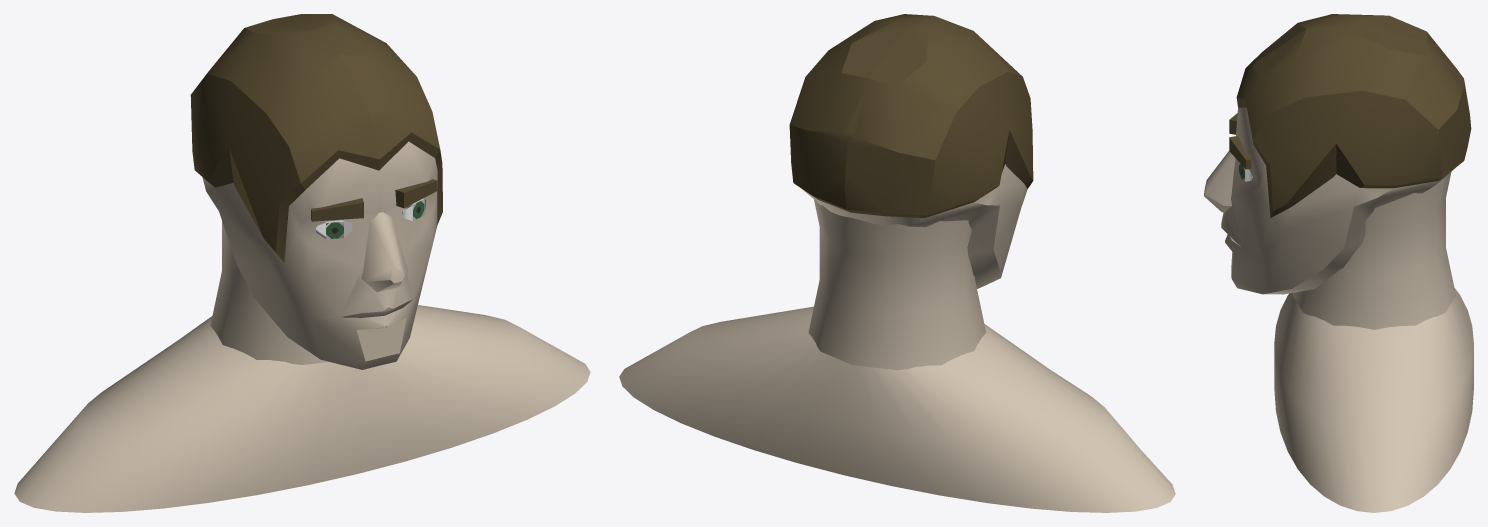
Rendered from man_head1.fbx.
3 renders of one model, left to right at view 1: azimuth 30°, elevation 25°; view 2: azimuth 150°, elevation 25°; view 3: azimuth 270°, elevation 25°, orthographic. The views are drawn at different scales.
Visible parts, largest first — view 1: Cylinder, Half1_1, Half1, Cylinder_1, Cube, Cube_2; view 2: Cylinder, Half1_1, Cylinder_1, Half1; view 3: Half1_1, Cylinder, Half1, Cylinder_1, Cube, Cube_2.
Boxes of the visible parts, left/top/right/bottom form: Cylinder: left=14, top=305, right=590, bottom=512; Half1_1: left=190, top=14, right=442, bottom=262; Half1: left=202, top=141, right=437, bottom=369; Cylinder_1: left=210, top=221, right=328, bottom=364; Cube: left=361, top=212, right=407, bottom=292; Cube_2: left=311, top=179, right=437, bottom=221; Cylinder: left=619, top=306, right=1175, bottom=512; Half1_1: left=789, top=14, right=1033, bottom=217; Cylinder_1: left=808, top=199, right=986, bottom=370; Half1: left=802, top=164, right=1027, bottom=288; Half1_1: left=1236, top=14, right=1471, bottom=217; Cylinder: left=1274, top=288, right=1473, bottom=512; Half1: left=1221, top=107, right=1454, bottom=294; Cylinder_1: left=1292, top=172, right=1455, bottom=329; Cube: left=1204, top=151, right=1235, bottom=212; Cube_2: left=1229, top=113, right=1251, bottom=169.
Size of the model in its own units: 56.86 by 39.78 by 26.43.
